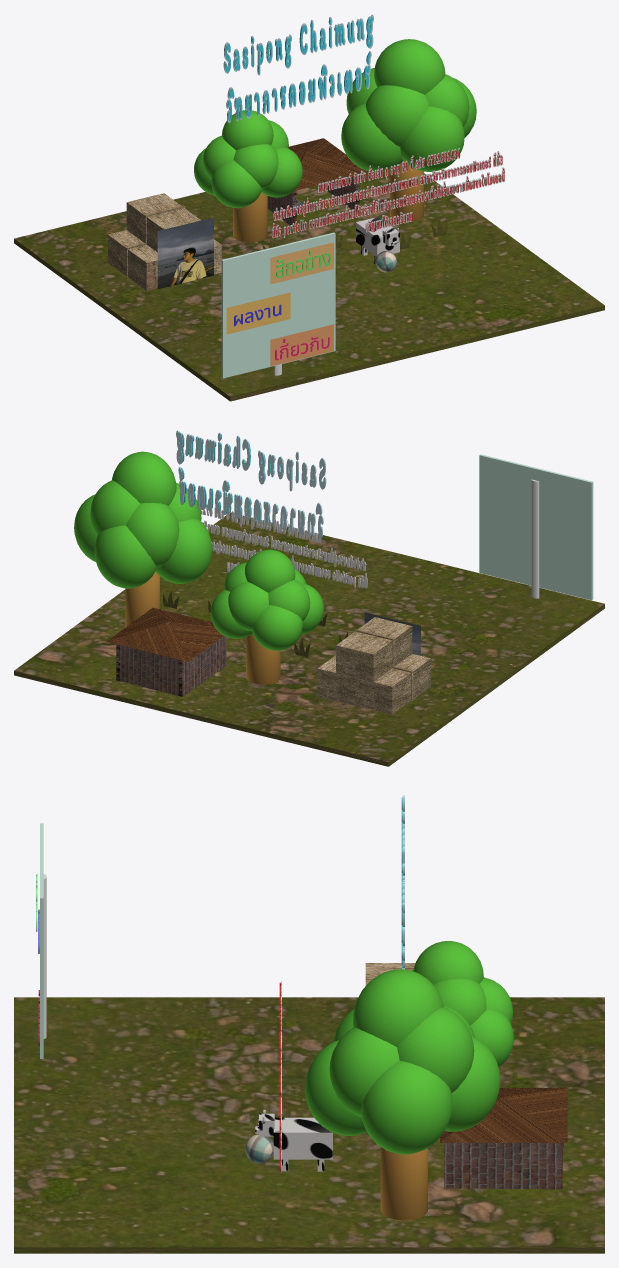
The picture shows the model from 3 angles, top to bottom: view 1: azimuth 30°, elevation 25°; view 2: azimuth 150°, elevation 25°; view 3: azimuth 270°, elevation 25°; orthographic projection. The views are drawn at different scales.
Parts seen in each view (by area): view 1: Cube, Cylinder.001, Plane.011, Sphere.005, Text.006, Plane.001, Text.002, Text, Pooh, Text.001, Plane.010, Plane.013 (+6 smaller); view 2: Cube, Cylinder.001, Plane.011, Sphere.005, Plane.001, Text.001, Text.006, Plane.010, Plane.009, Plane.008, Cylinder.002, Text (+3 smaller); view 3: Cube, Cylinder.001, Sphere.005, Plane.007, Plane.010, Cylinder, Cylinder.004, Plane.011, Sphere, Cylinder.003.
Boxes of the visible parts, left/top/right/bottom form: Cube: left=14, top=170, right=604, bottom=401; Cylinder.001: left=341, top=39, right=476, bottom=171; Plane.011: left=221, top=232, right=335, bottom=378; Sphere.005: left=194, top=110, right=302, bottom=208; Text.006: left=271, top=148, right=504, bottom=238; Plane.001: left=108, top=193, right=221, bottom=290; Text.002: left=272, top=149, right=504, bottom=237; Text: left=225, top=16, right=372, bottom=120; Pooh: left=157, top=217, right=213, bottom=288; Text.001: left=223, top=14, right=373, bottom=122; Plane.010: left=288, top=138, right=368, bottom=190; Plane.013: left=226, top=292, right=290, bottom=334; Cube: left=14, top=512, right=604, bottom=766; Cylinder.001: left=74, top=451, right=212, bottom=588; Plane.011: left=479, top=454, right=593, bottom=600; Sphere.005: left=210, top=549, right=323, bottom=650; Plane.001: left=317, top=617, right=430, bottom=714; Text.001: left=176, top=430, right=326, bottom=538; Text.006: left=200, top=504, right=367, bottom=588; Plane.010: left=106, top=607, right=223, bottom=661; Plane.009: left=120, top=645, right=178, bottom=695; Plane.008: left=178, top=636, right=226, bottom=696; Cylinder.002: left=246, top=633, right=280, bottom=684; Text: left=179, top=431, right=314, bottom=528; Cube: left=14, top=997, right=604, bottom=1253; Cylinder.001: left=305, top=969, right=500, bottom=1154; Sphere.005: left=411, top=941, right=513, bottom=1067; Plane.007: left=444, top=1143, right=562, bottom=1189; Plane.010: left=440, top=1088, right=567, bottom=1142; Cylinder: left=380, top=1147, right=427, bottom=1220; Cylinder.004: left=255, top=1109, right=332, bottom=1171; Plane.011: left=40, top=823, right=43, bottom=1058; Sphere: left=245, top=1134, right=273, bottom=1163; Cylinder.003: left=43, top=874, right=46, bottom=1038.
Bounding box in the file's own units: 0.1026 × 0.0573 × 0.1.
Materials: 22 (8 with a texture image).
